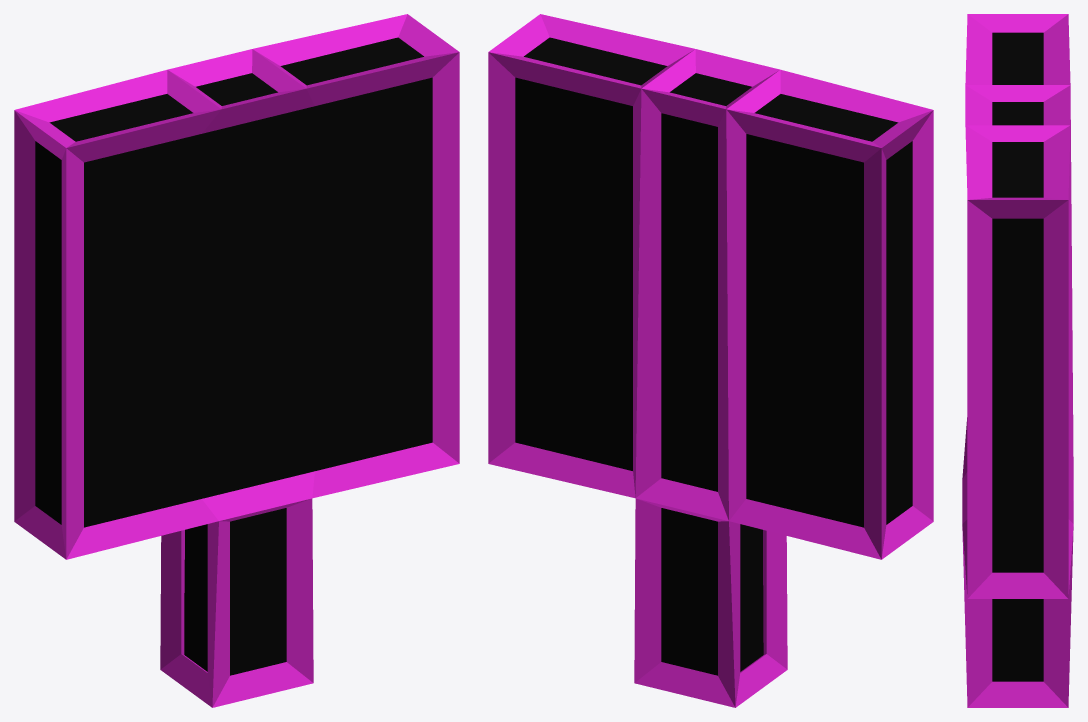
Rendered from Sign.fbx.
The picture shows the model from 3 angles, left to right: view 1: azimuth 30°, elevation 25°; view 2: azimuth 150°, elevation 25°; view 3: azimuth 270°, elevation 25°; orthographic projection. The views are drawn at different scales.
Visible parts, largest first — view 1: Cube.007, Cube.006; view 2: Cube.007, Cube.006; view 3: Cube.006, Cube.007.
Part boxes in pixels (bbox=[...]): Cube.007: bbox=[35, 37, 432, 675]; Cube.006: bbox=[14, 14, 459, 707]; Cube.007: bbox=[515, 37, 912, 675]; Cube.006: bbox=[488, 14, 933, 707]; Cube.006: bbox=[962, 14, 1073, 707]; Cube.007: bbox=[992, 32, 1043, 681].
Bounding box in the file's own units: 209 × 303 × 52.78.
